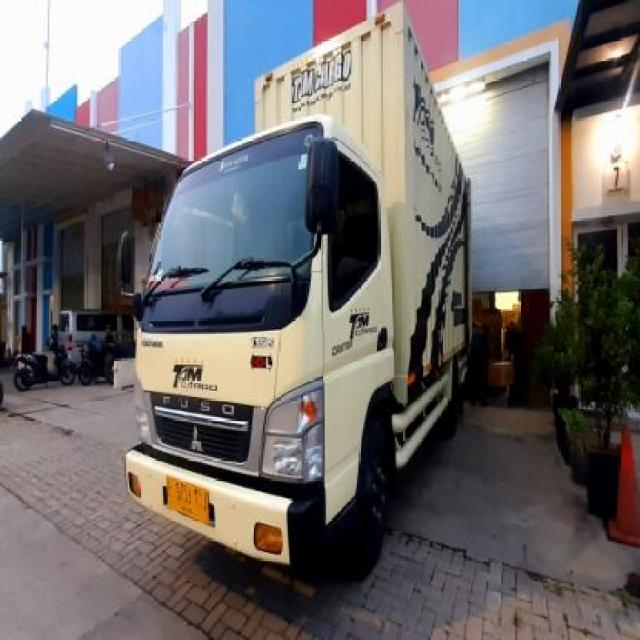truck: (123, 1, 476, 619)
